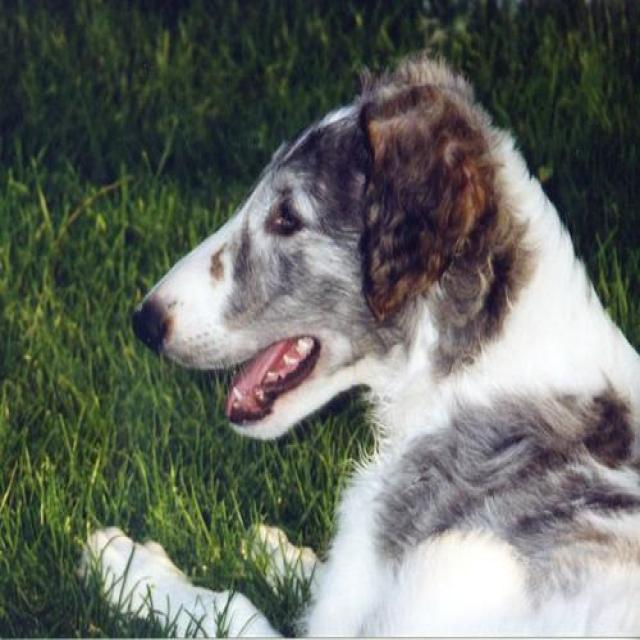happy: (56, 20, 640, 640)
